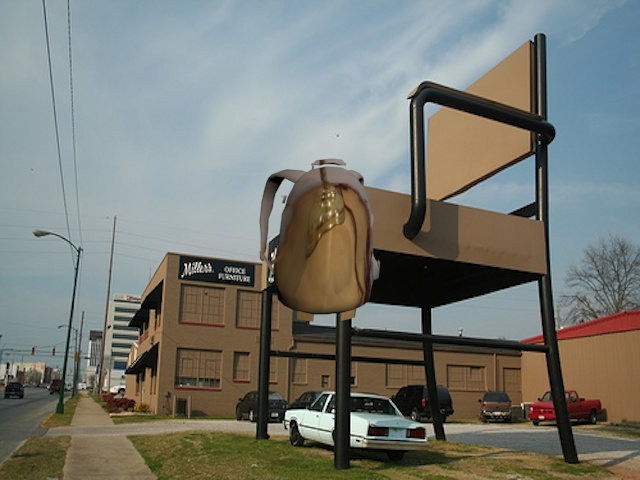back_pack: (257, 145, 384, 336)
